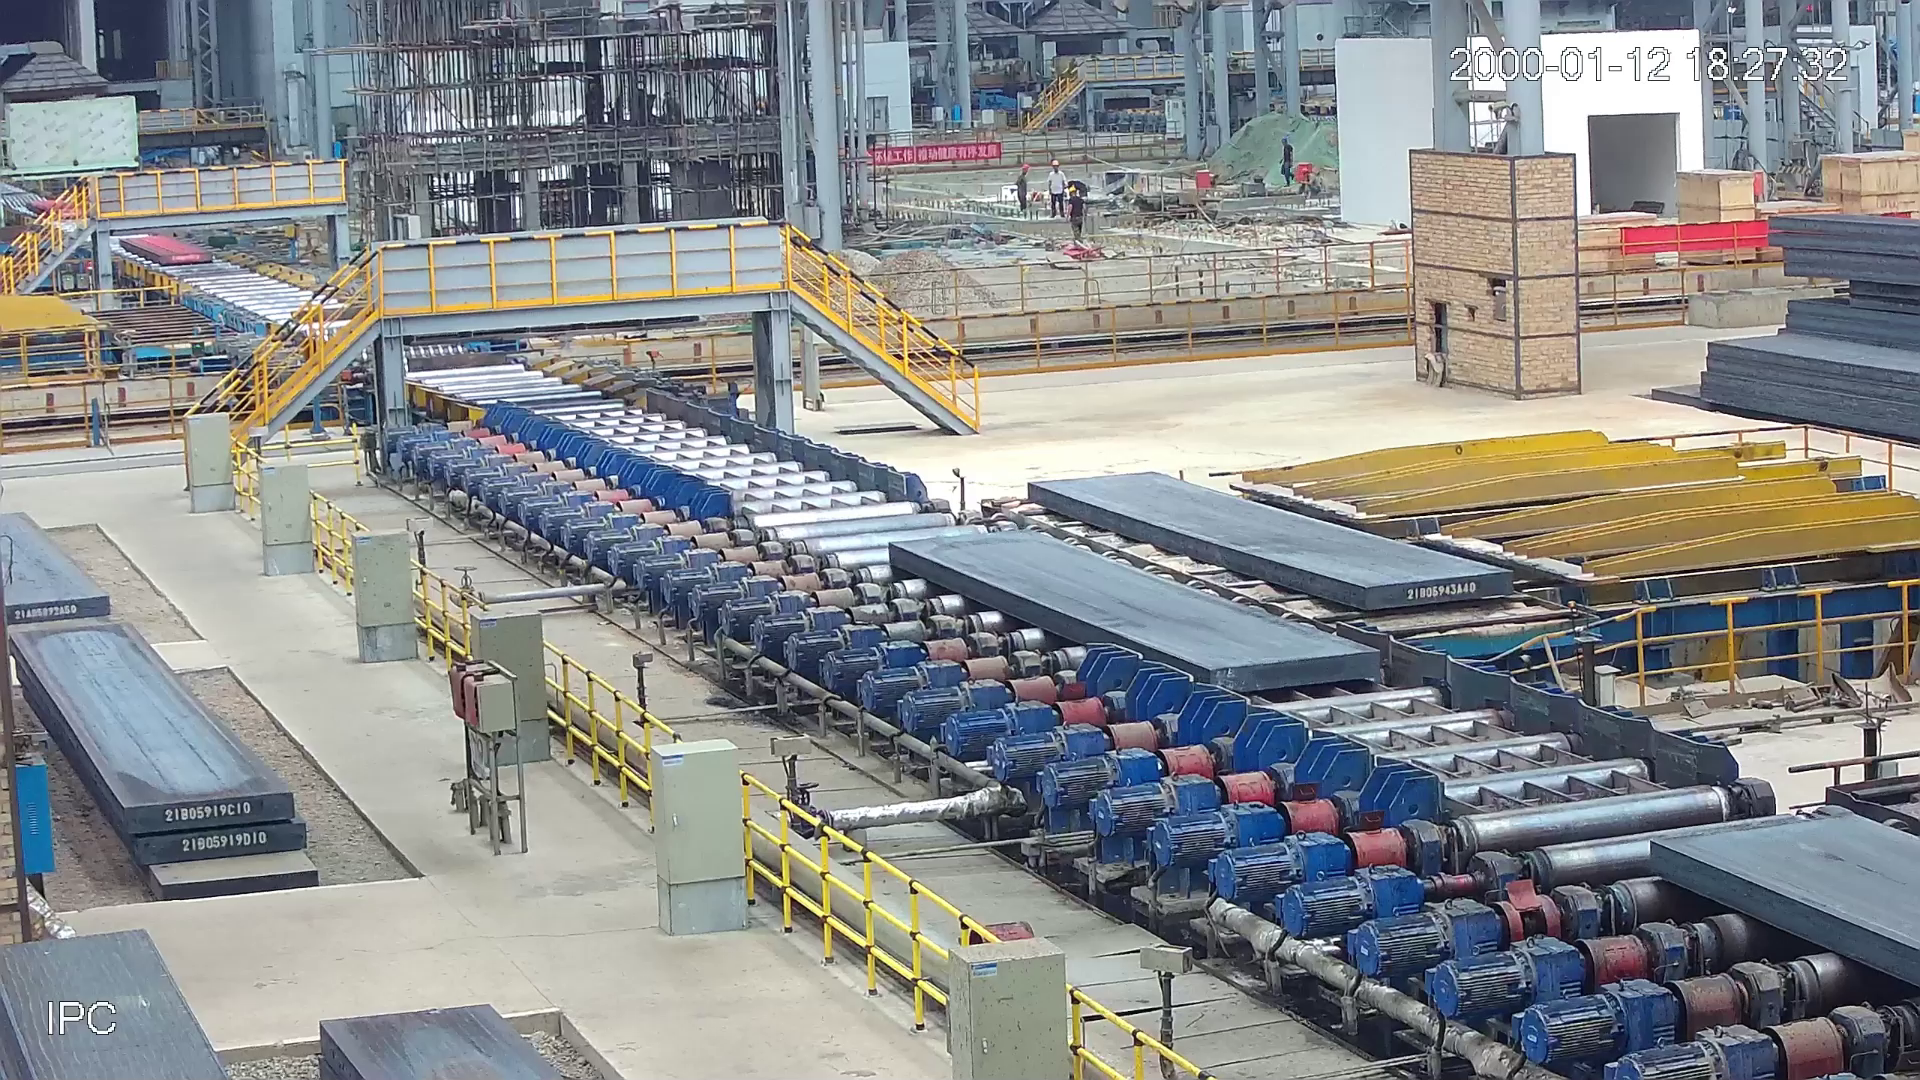slab: (881, 524, 1400, 702), (1019, 464, 1516, 611), (1643, 811, 1920, 996), (115, 231, 222, 268)
